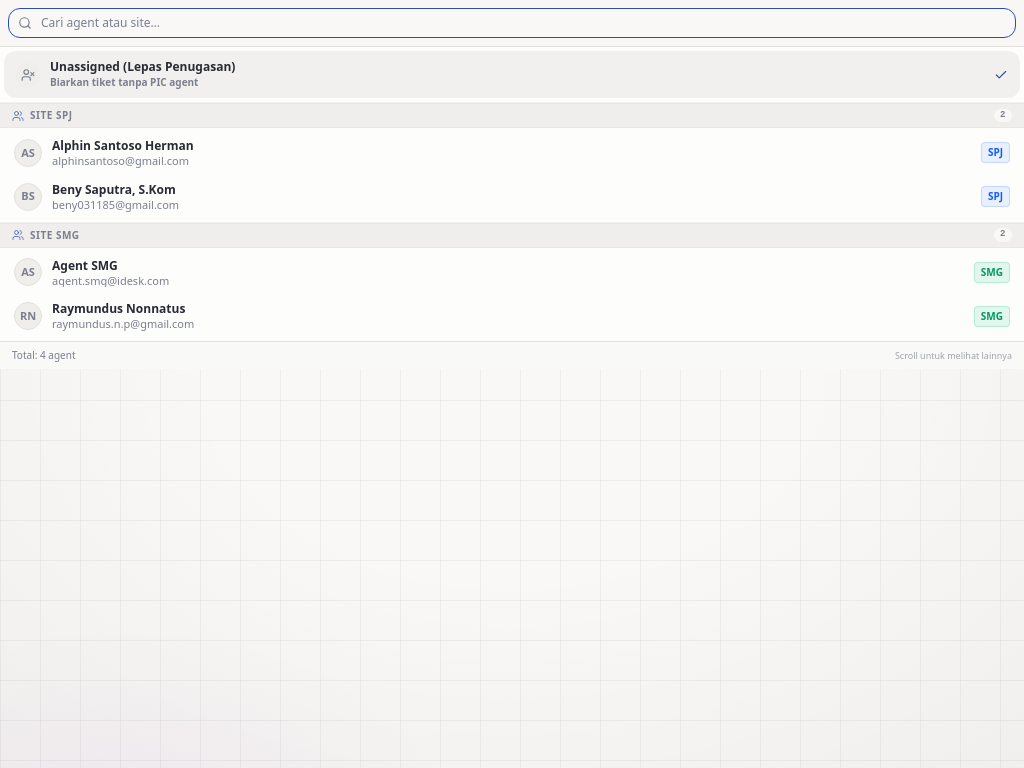
Test: AgentSelectList › filters agents dynamically when typing in search input
In the field with placeholder "Cari agent atau site…": (512, 23) [8, 8, 1016, 38], type "Beny"
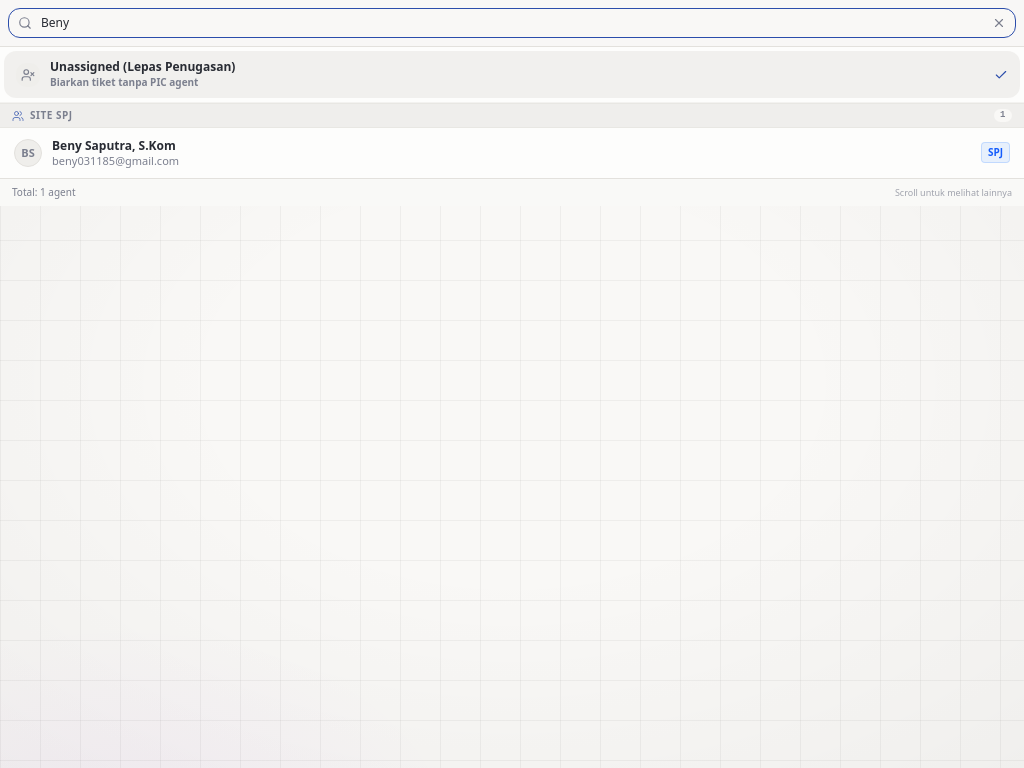
Expected: the text "Beny Saputra, S.Kom" is shown, [52, 138, 176, 154]
Expected: the button "Agent SMG" is gone
